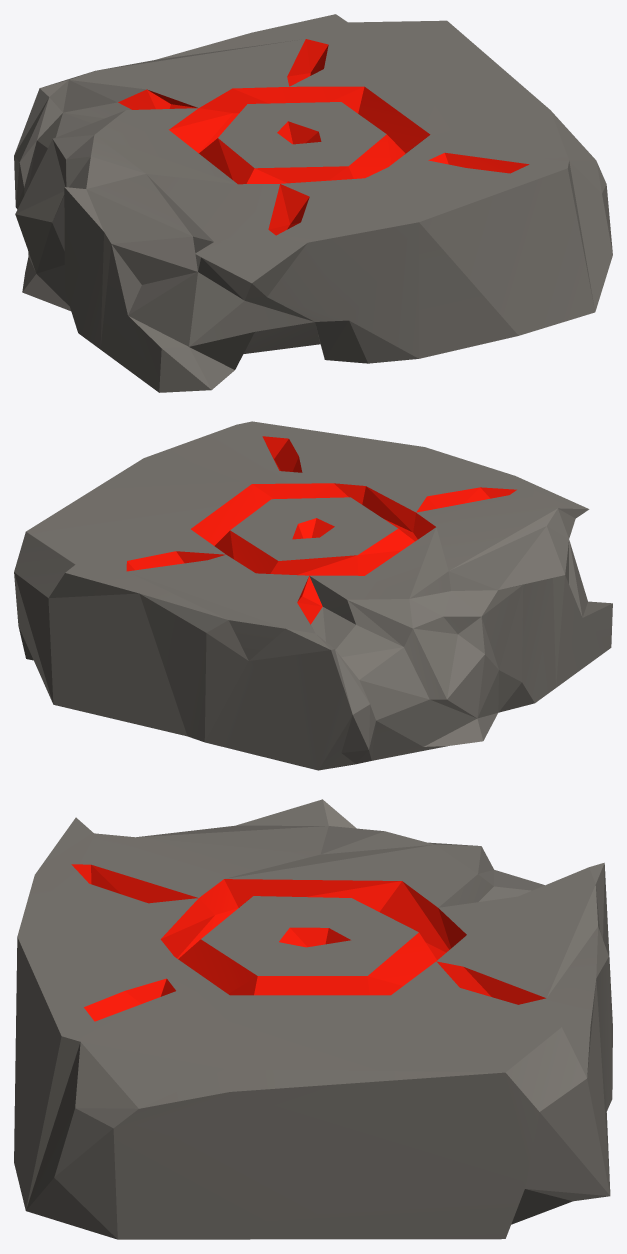
The model's file is SM_Env_Rune_Square_04.obj.
The picture shows the model from 3 angles, top to bottom: view 1: azimuth 30°, elevation 25°; view 2: azimuth 150°, elevation 25°; view 3: azimuth 270°, elevation 25°; orthographic projection. The views are drawn at different scales.
Visible parts, largest first — view 1: SM_Env_Rune_Square_04; view 2: SM_Env_Rune_Square_04; view 3: SM_Env_Rune_Square_04.
Boxes of the visible parts, x1,y1,x2,y2 form: SM_Env_Rune_Square_04: (14,14,612,392); SM_Env_Rune_Square_04: (14,421,612,770); SM_Env_Rune_Square_04: (14,799,612,1239).
Size of the model in its own units: 0.5625 by 0.1605 by 0.521.
